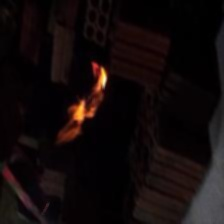fire: (45, 56, 118, 160)
